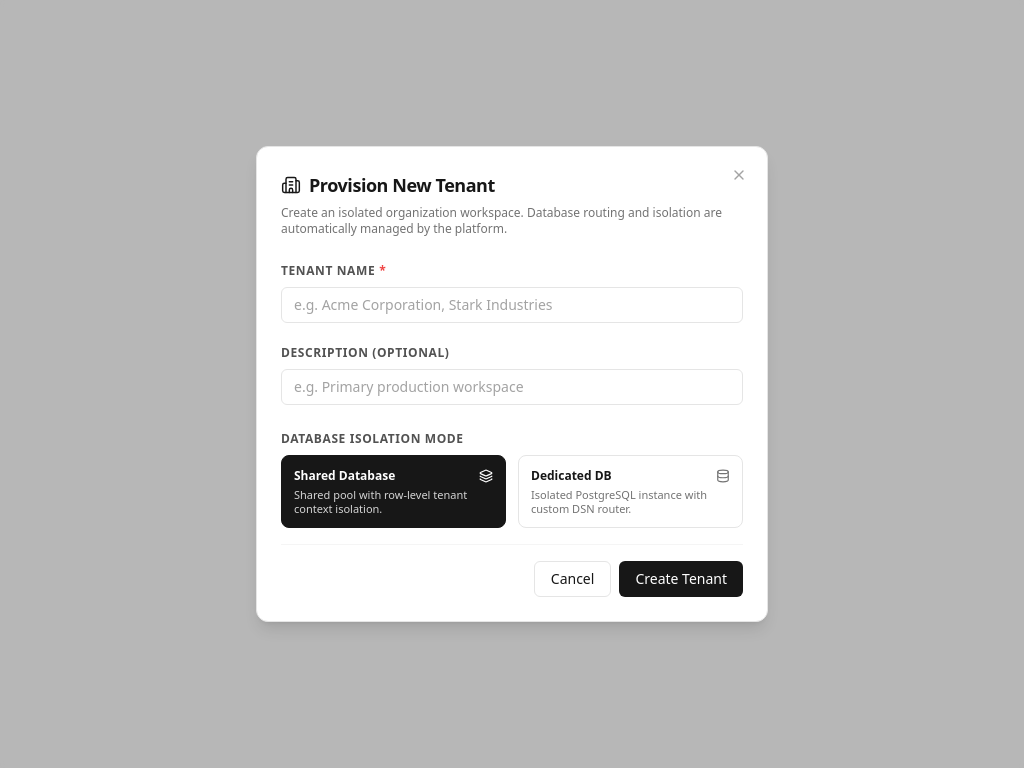
Test case: Tenant Module › CreateTenantDialog › renders form and validates required tenant name in English with isolation mode selection
Expected: the text "Provision New Tenant" is shown, [309, 171, 495, 199]
Expected: the field labelled "Tenant Name*" is shown, [281, 287, 743, 323]
Submit without name
Click the button "Create Tenant": (681, 579) [619, 561, 743, 597]
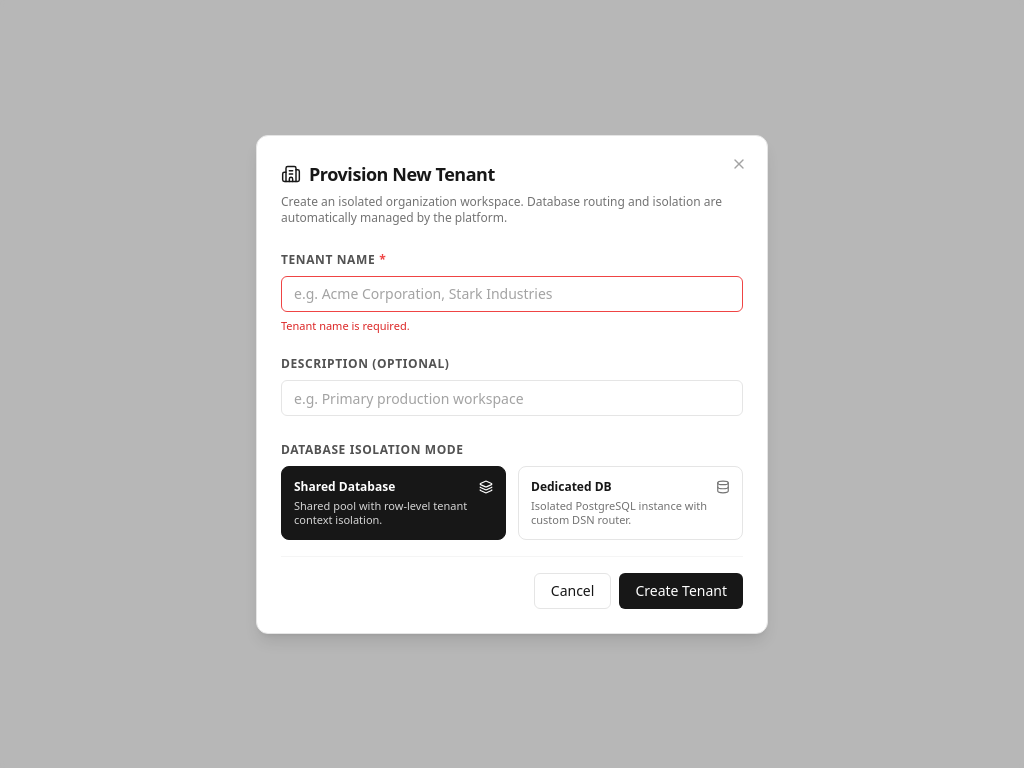
Now the text "Tenant name is required." is shown, box [281, 318, 410, 332]
